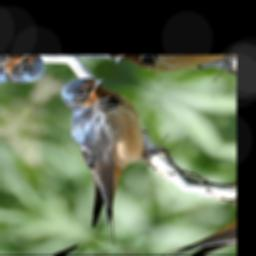Swallow: (0, 66, 217, 248)
